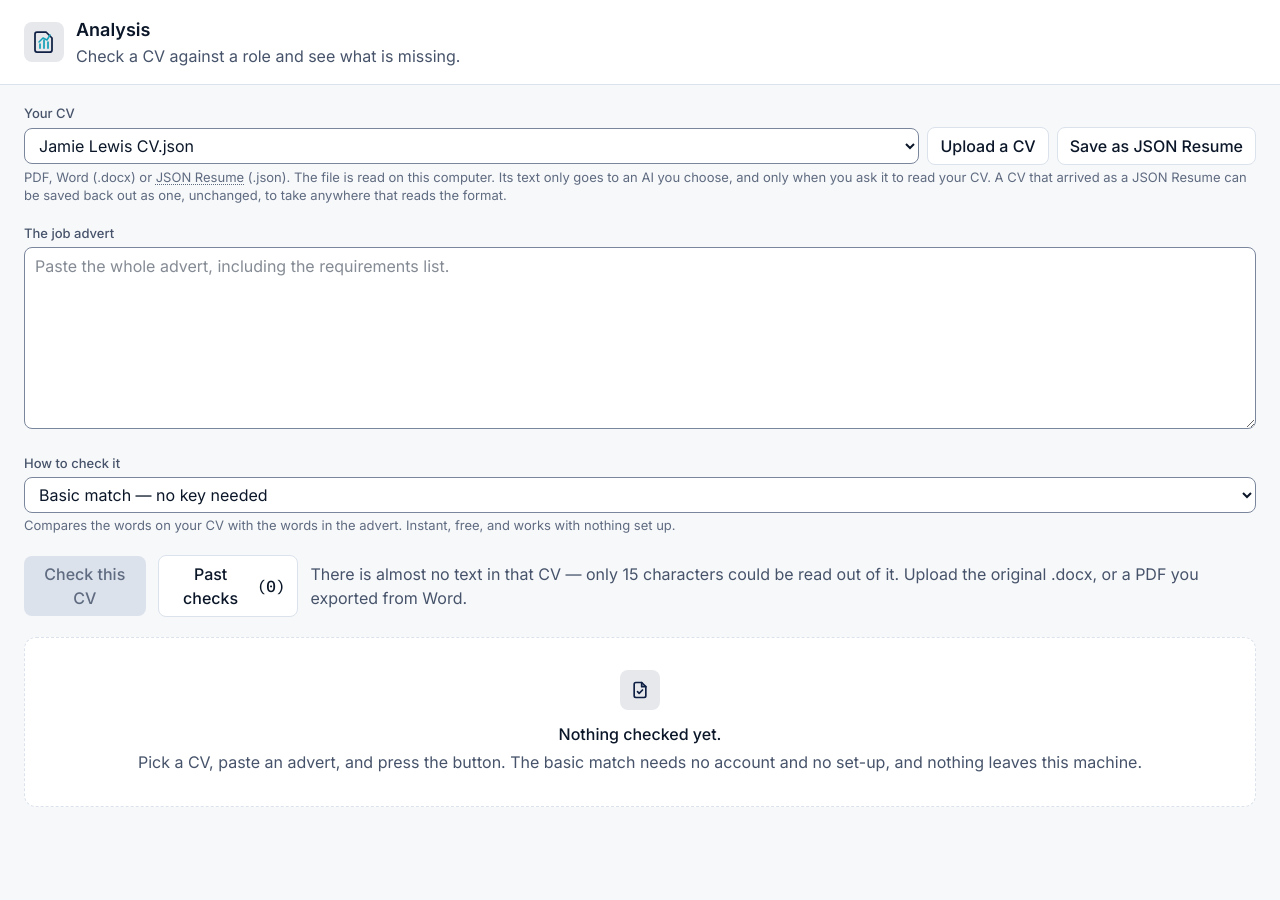
Test case: Save as JSON Resume › happy: writes the stored file back out, stamped, under the CV’s own name
Expected: the dropdown with test id "analysis-provider" is shown, [24,477,1256,513]
What coordinates should you click on to do the following:
click the button with test id "analysis-save-json"
I would click on:
 (1156, 146)
Its box is [1057,127,1256,165].
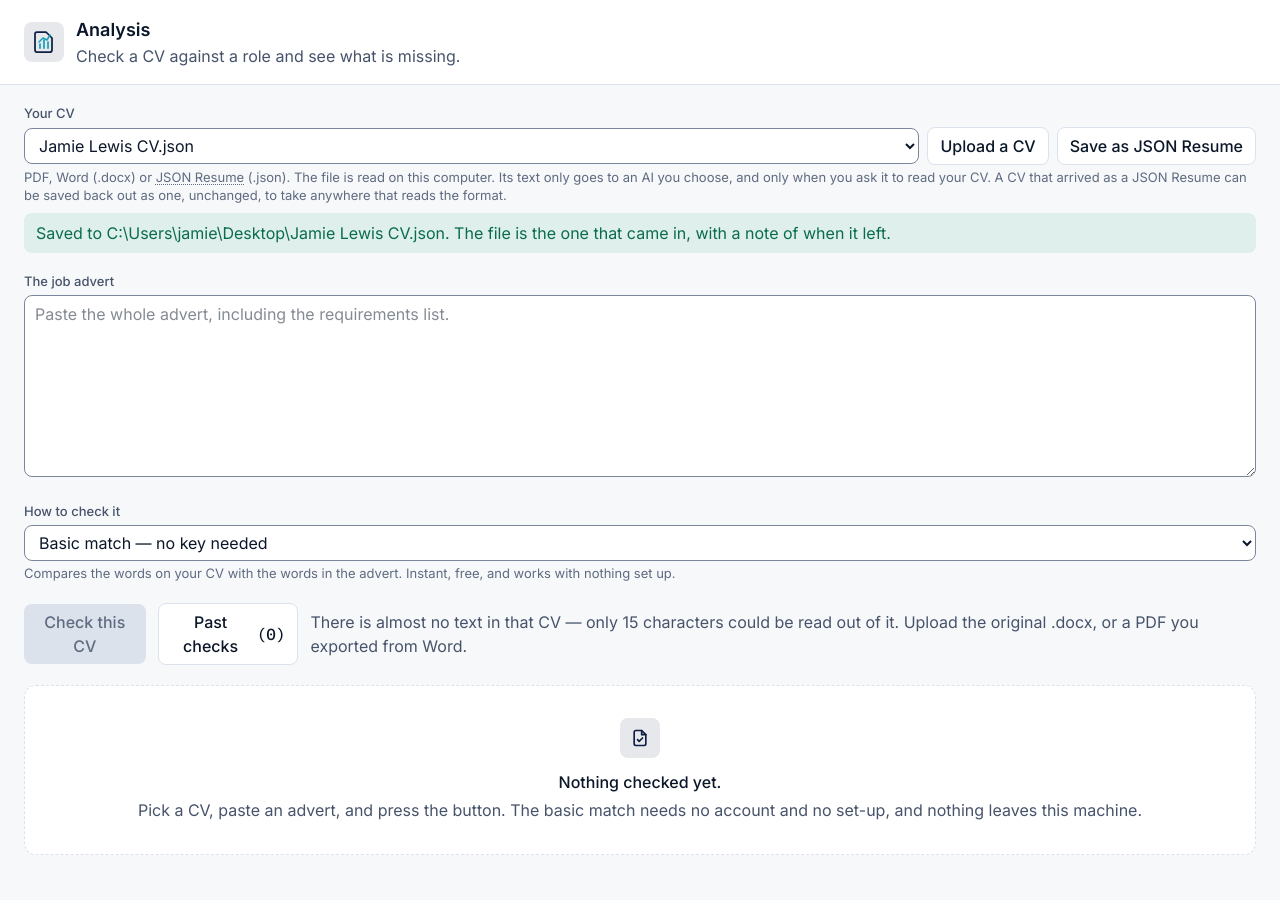
Expected: the text with test id "analysis-export-message" shows "Jamie Lewis CV.json", [36,223,891,243]
